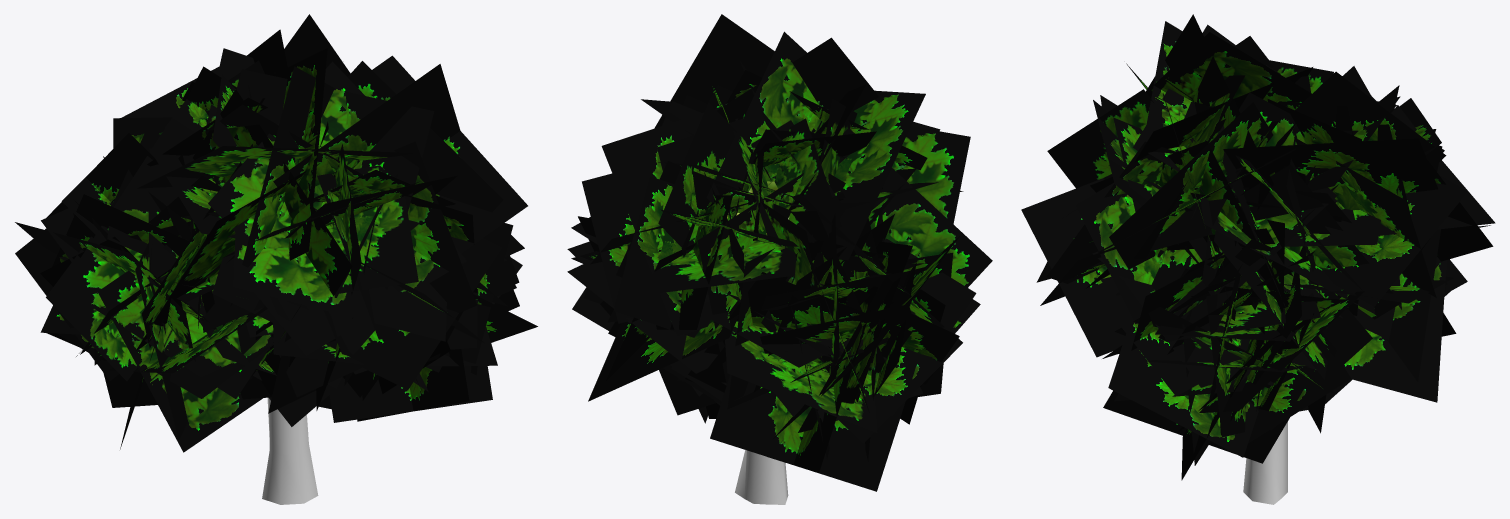
Rendered from Tree02.glb.
3 views of the same model, side by side, from view 1: azimuth 30°, elevation 25°; view 2: azimuth 150°, elevation 25°; view 3: azimuth 270°, elevation 25° (orthographic). The views are drawn at different scales.
Visible parts, largest first — view 1: Cube; view 2: Cube; view 3: Cube.
Boxes of the visible parts, x1,y1,x2,y2 form: Cube: [15, 14, 537, 504]; Cube: [567, 14, 992, 504]; Cube: [1021, 14, 1495, 504].
Size of the model in its own units: 18.83 by 18.94 by 17.58.
Materials: 3 (2 with a texture image).
